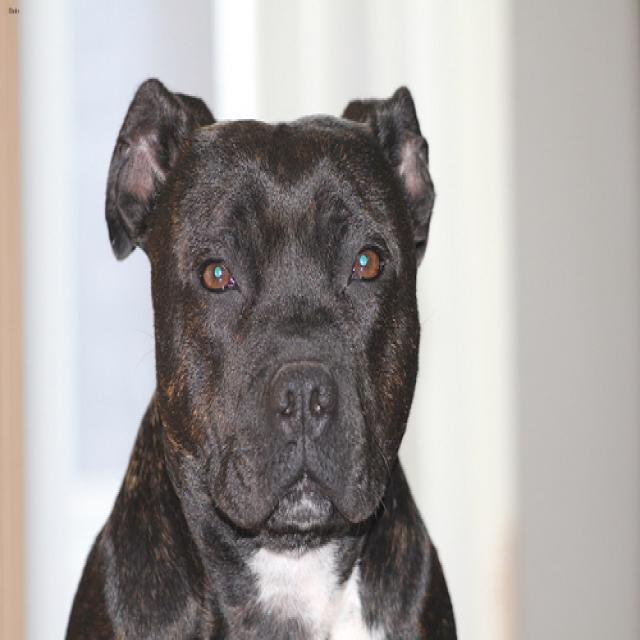dog-staffordshire_bull_terrier: (54, 69, 472, 636)
